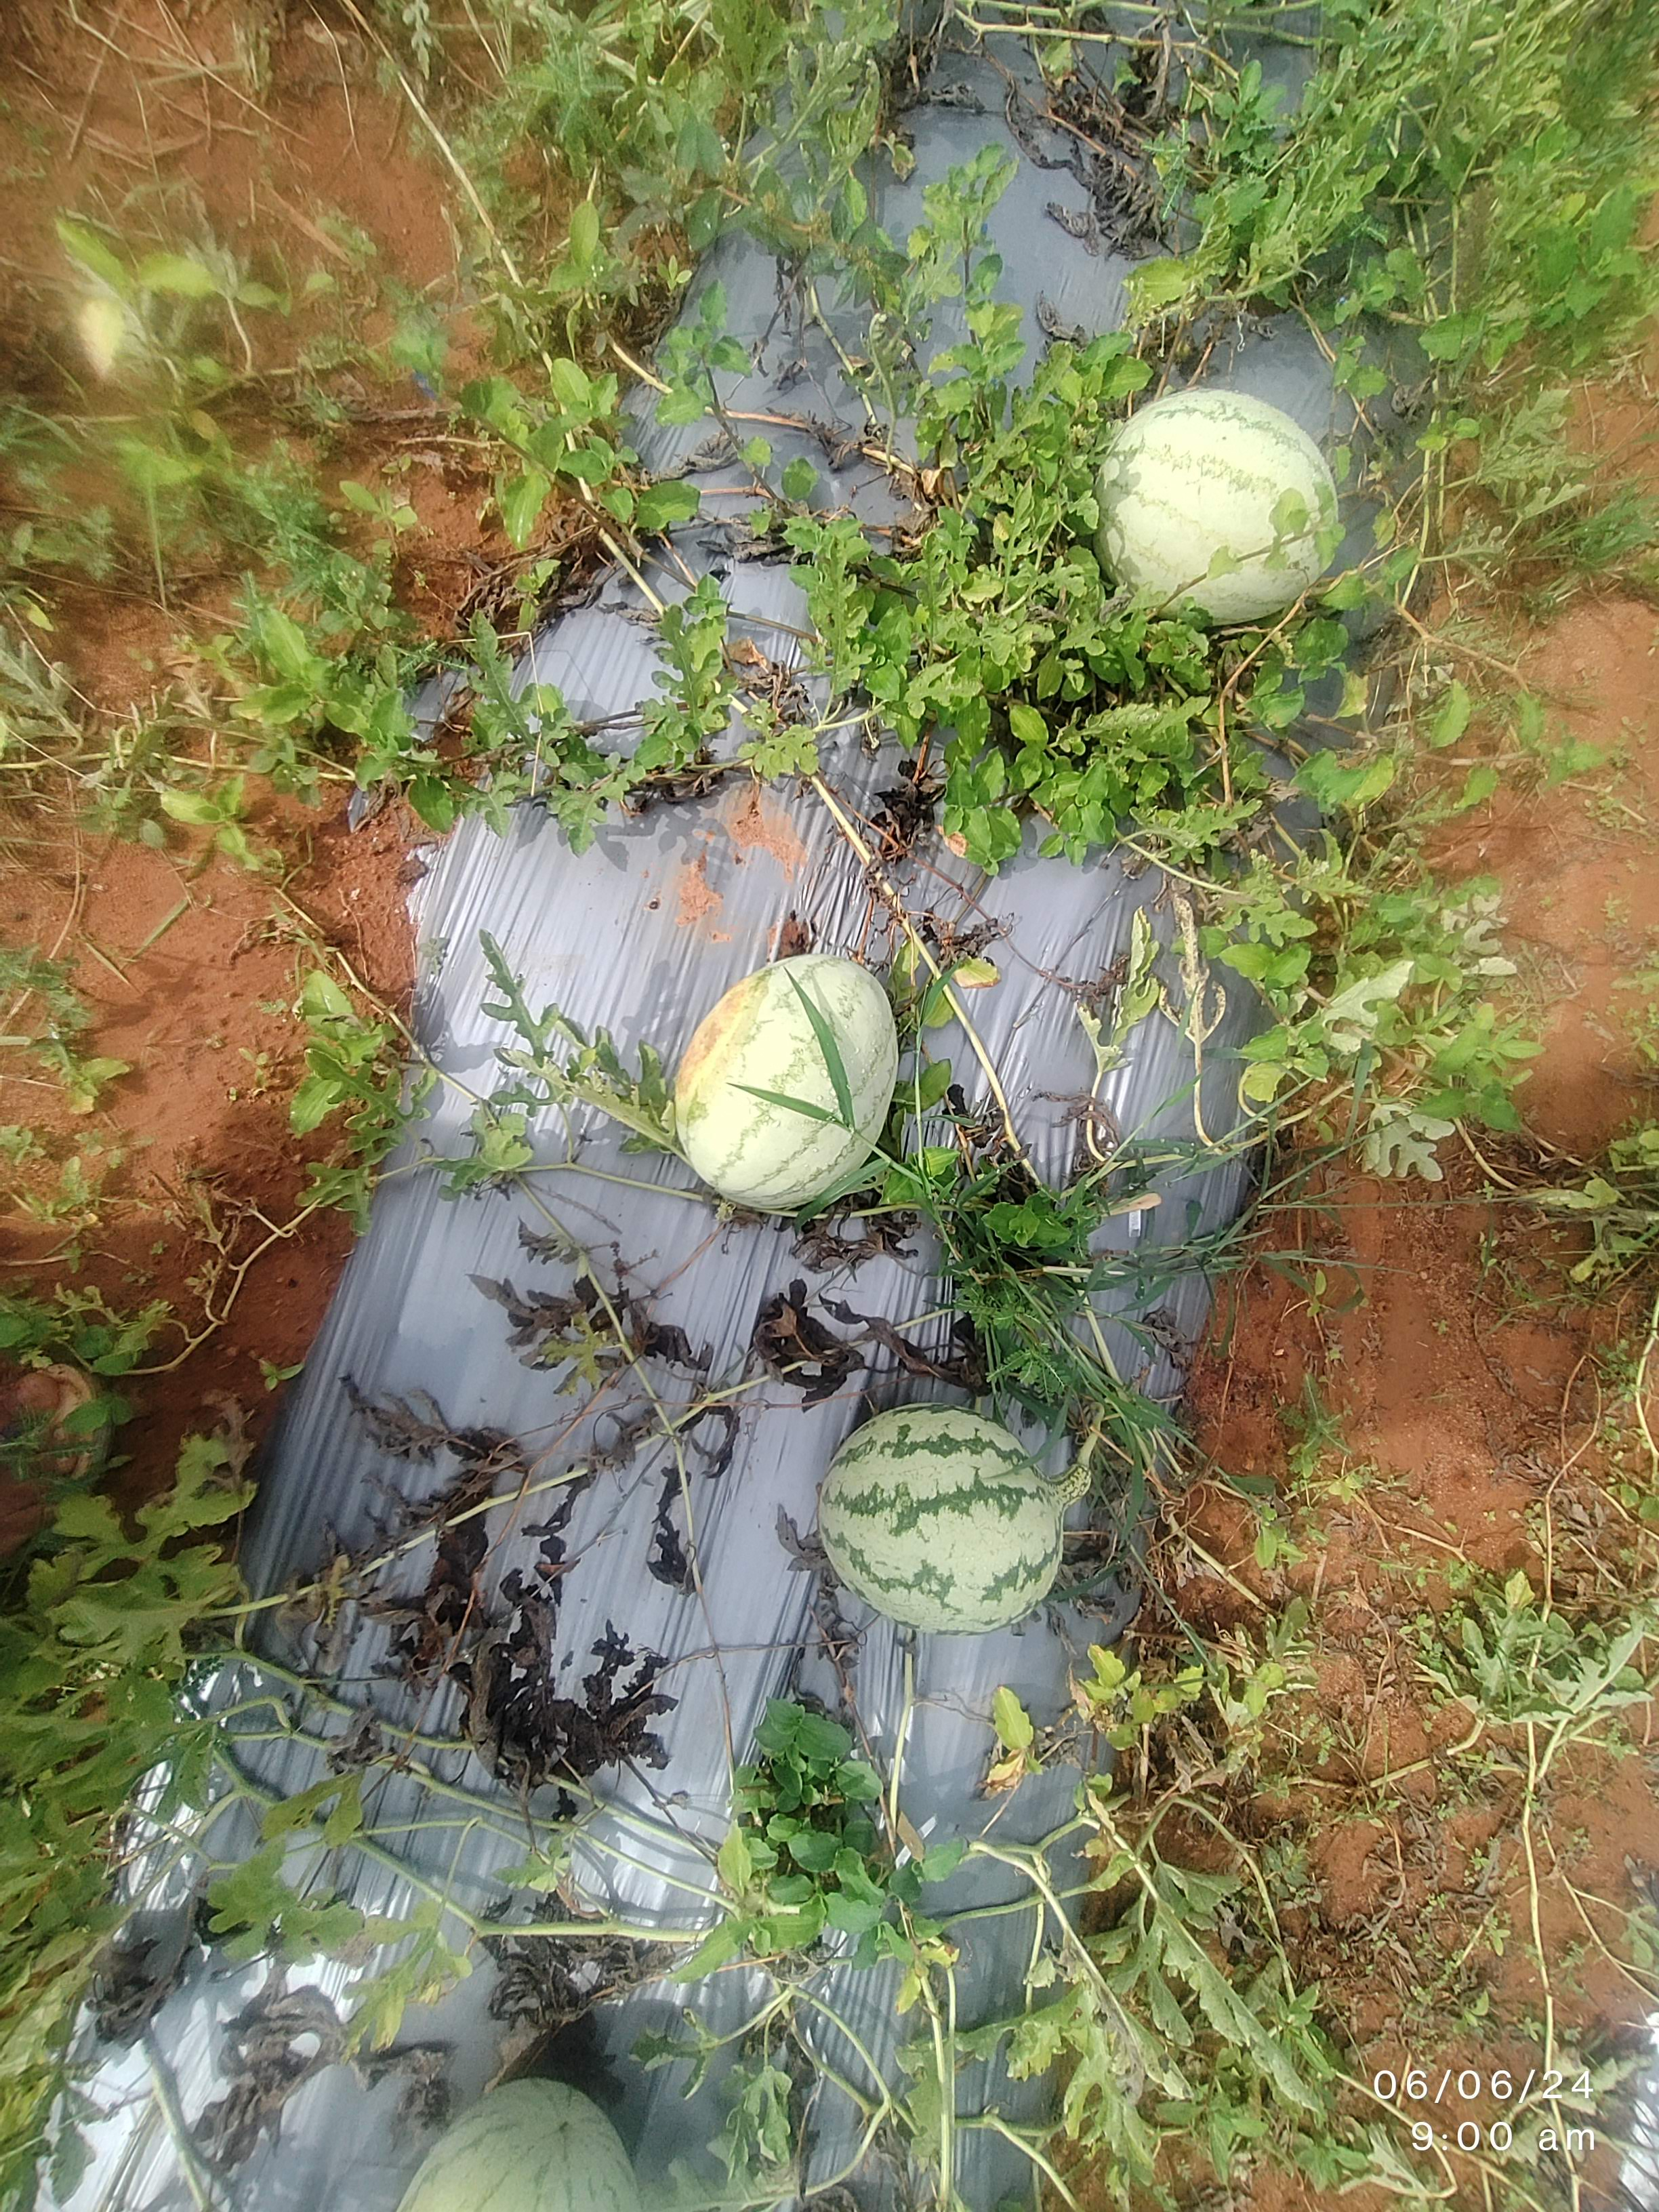not-good-to-harvest: (1082, 333, 1434, 690), (770, 1331, 1124, 1681), (627, 881, 969, 1224), (56, 218, 221, 434)
